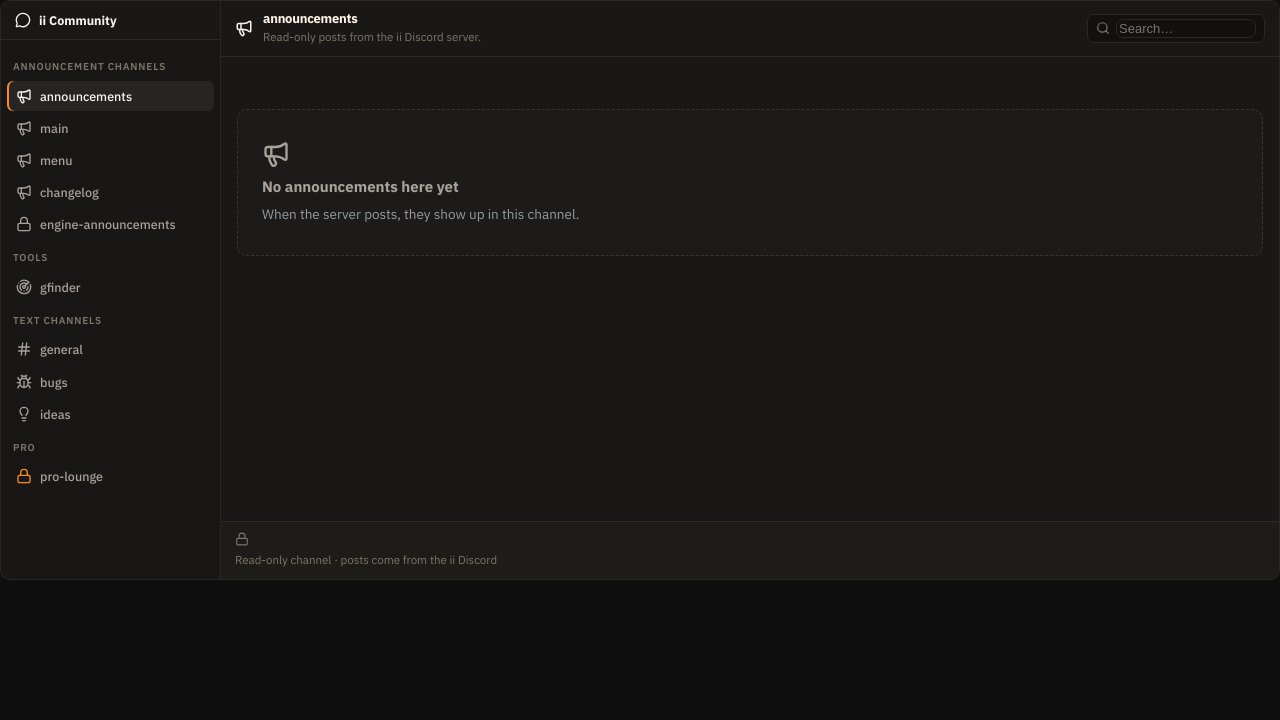
Scenario: highlights messages that mention the viewer and renders @labels
The width and height of the screenshot is (1280, 720).
What coordinates should you click on to do the following:
click the button "general"
I would click on:
 (110, 349)
Its box is [7,334,214,364].
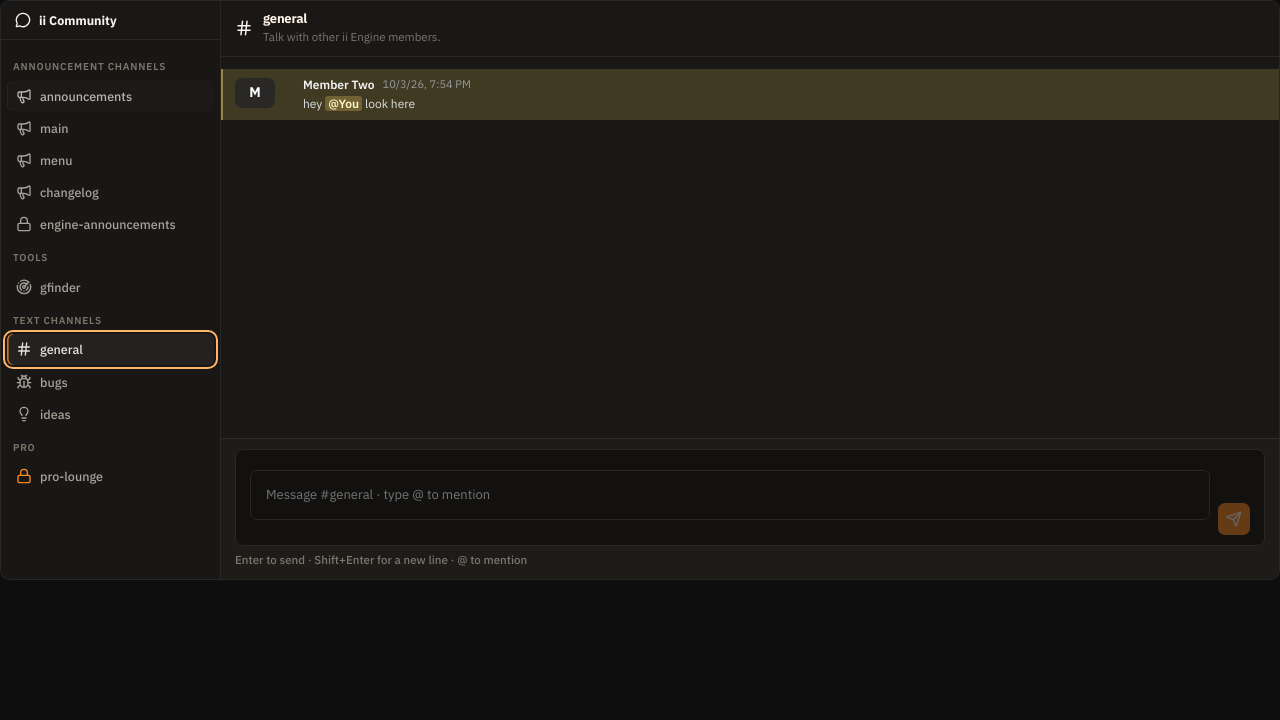
Result: the text "@You" is shown at [325,96,362,111]
Result: the element with class "mentioned-me" is shown at [221,69,1279,120]
